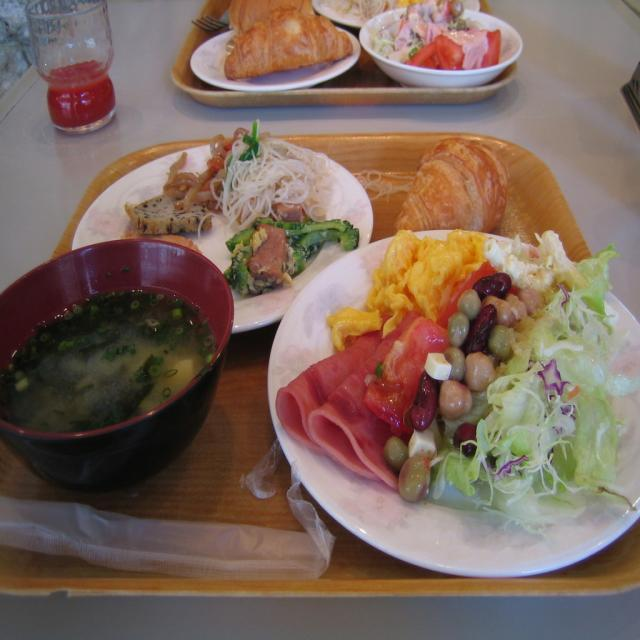Croissant: (391, 137, 511, 237), (226, 6, 354, 77)
